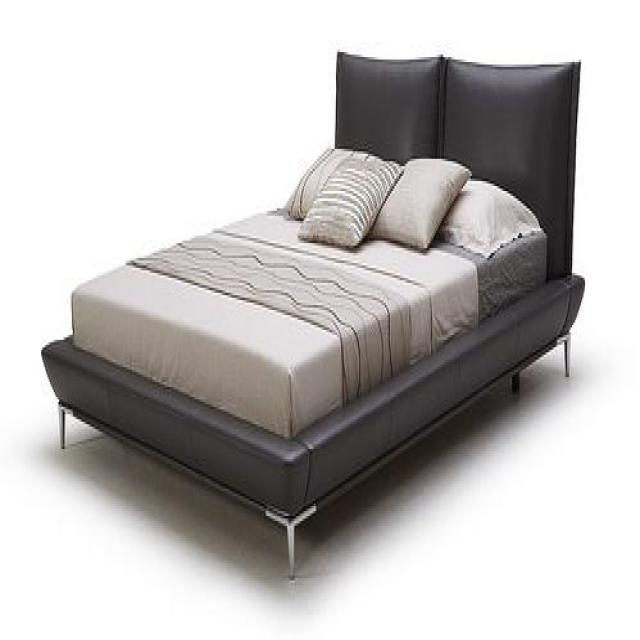bed: (40, 47, 585, 581)
